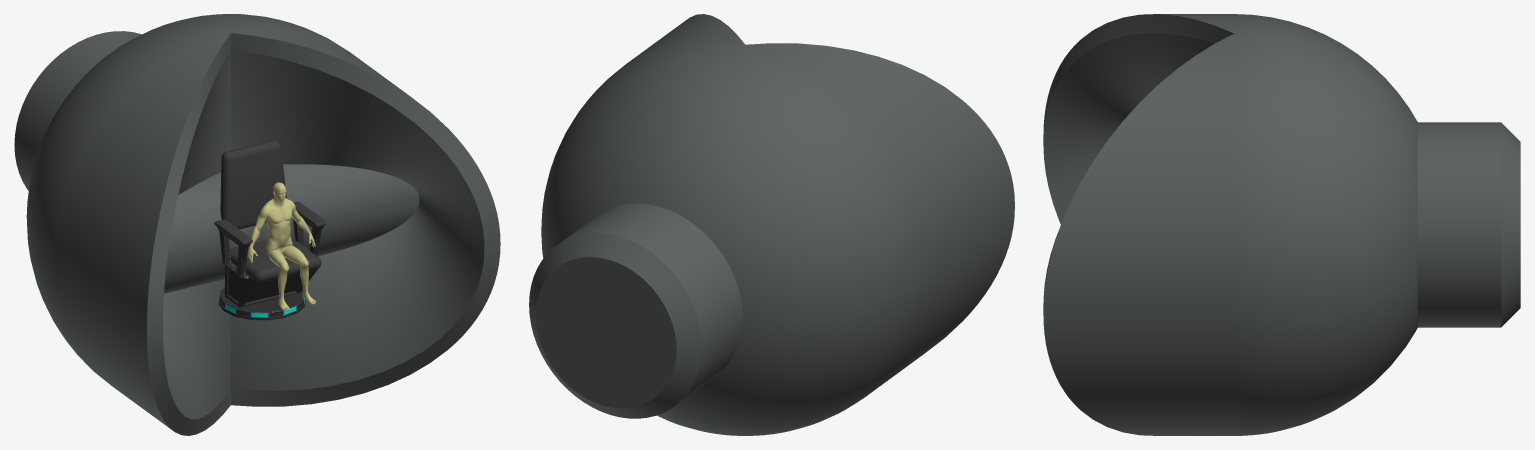
The model's file is beautifulship.fbx.
The picture shows the model from 3 angles, left to right: view 1: azimuth 30°, elevation 25°; view 2: azimuth 150°, elevation 25°; view 3: azimuth 270°, elevation 25°; orthographic projection. The views are drawn at different scales.
Visible parts, largest first — view 1: Part 1, Chair, male_genericMesh; view 2: Part 1; view 3: Part 1.
Part boxes in pixels (x1,y1,x2,y2): Part 1: [14, 14, 500, 435]; Chair: [214, 140, 326, 320]; male_genericMesh: [247, 182, 315, 310]; Part 1: [529, 14, 1014, 435]; Part 1: [1043, 14, 1520, 435].
Bounding box in the file's own units: 110 × 111 × 125.
